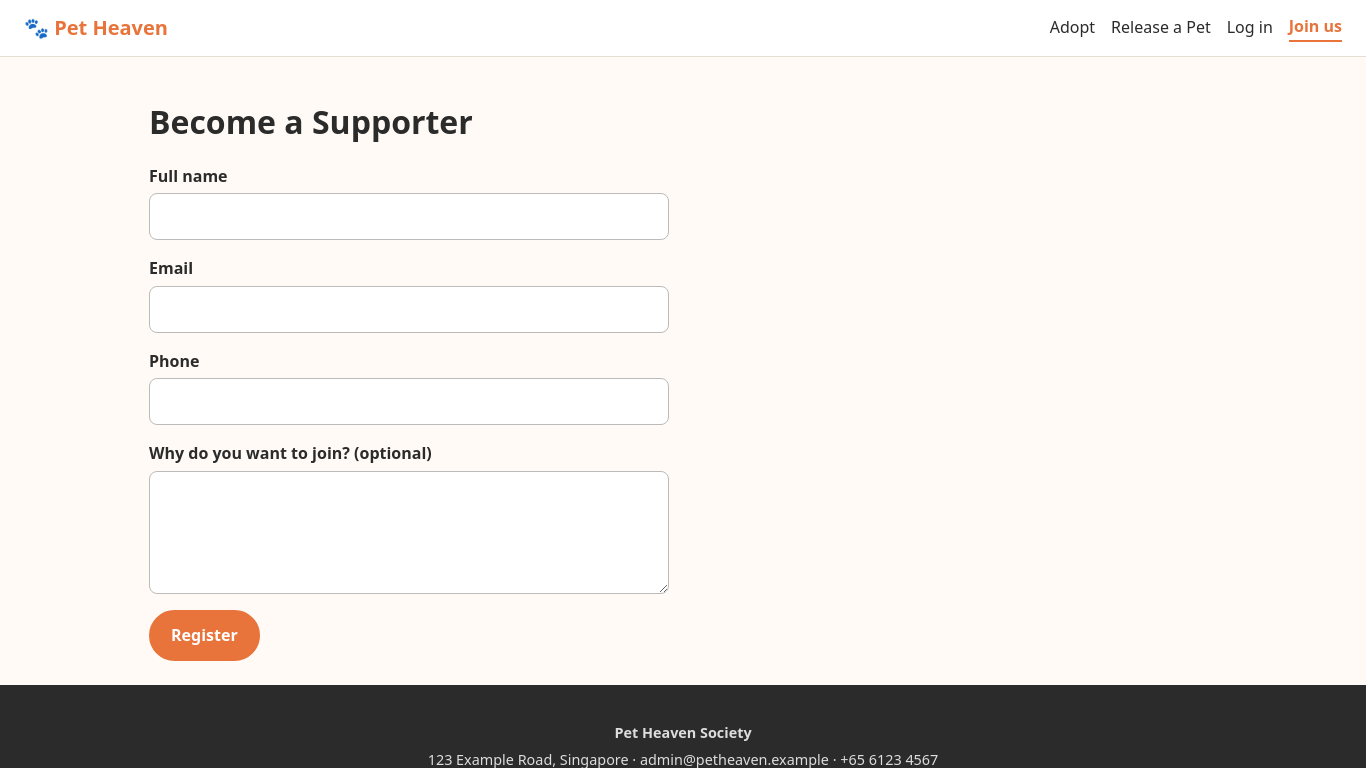
Scenario: Forms › emails the admin and logs the member in after a valid registration
This screenshot has width=1366, height=768.
In the field labelled "Full name": (409, 217) [149,194,669,240], type "Amy Tan"
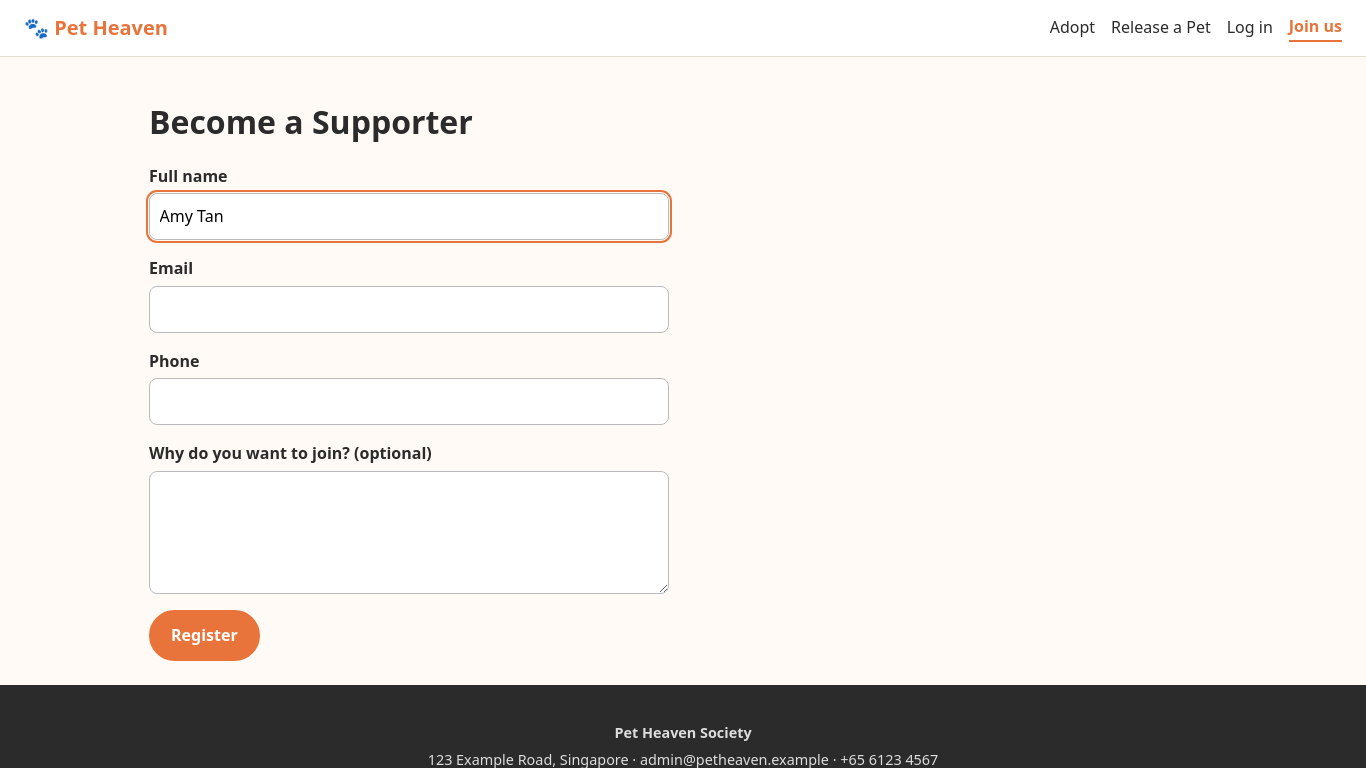
In the field labelled "Email": (409, 309) [149,286,669,333], type "amy@example.com"
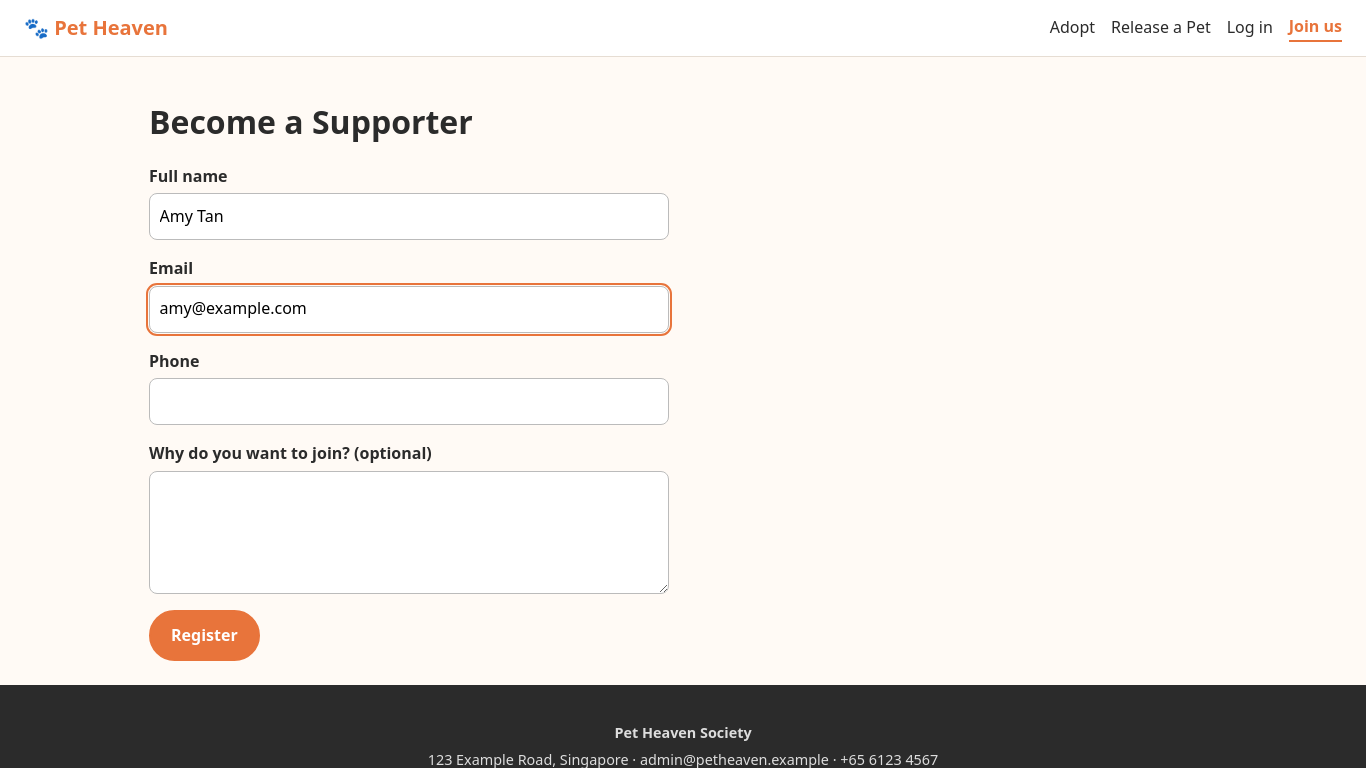
In the field labelled "Phone": (409, 402) [149,378,669,425], type "91234567"
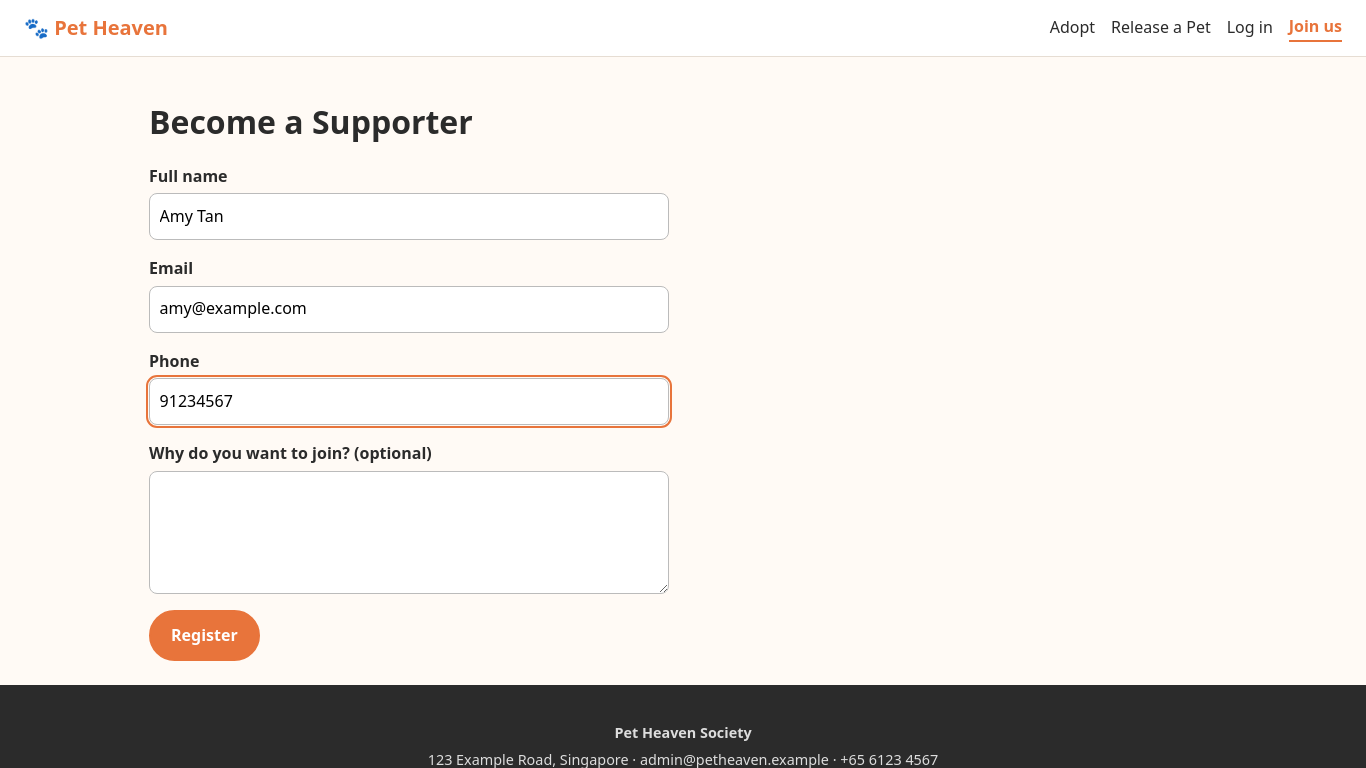
Click the button "Register": (204, 635) [149,610,260,661]
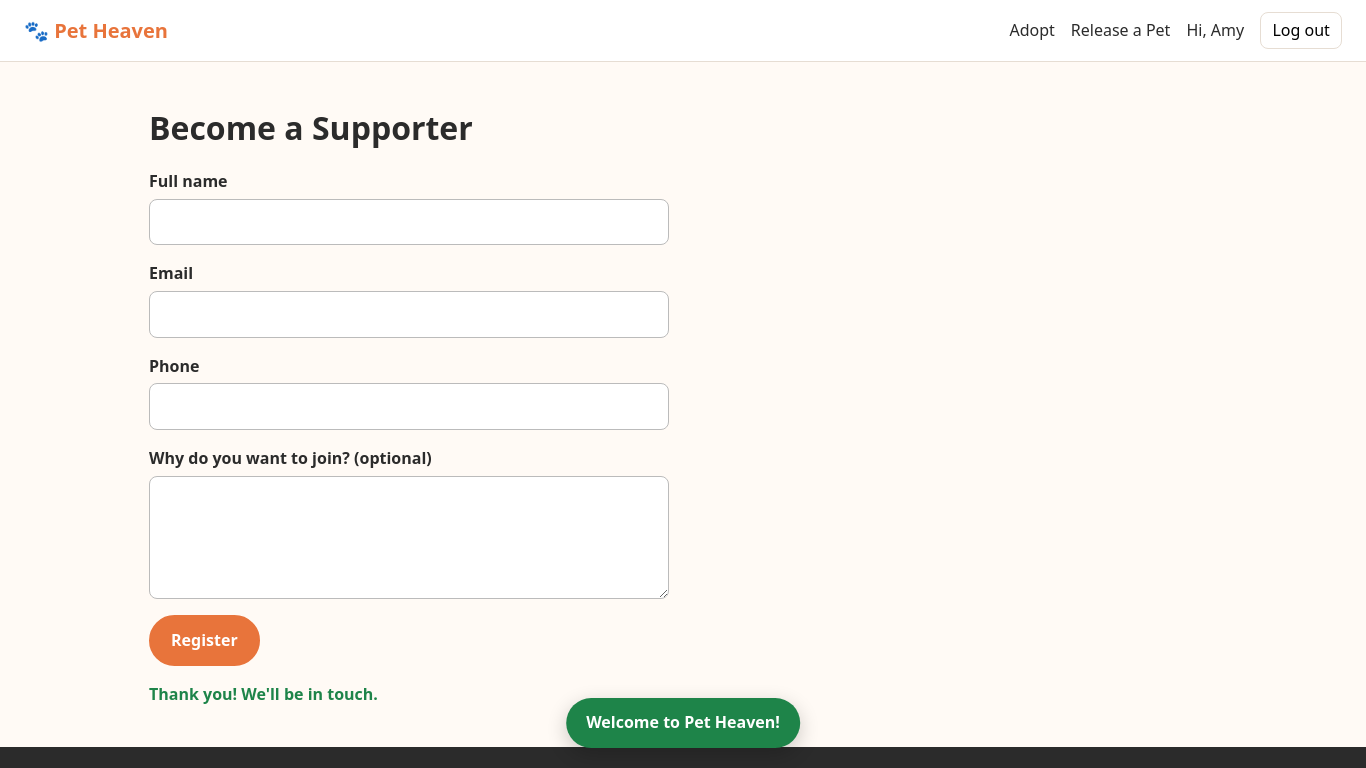
Expected: the text "Hi, Amy" is shown, [1186,18,1244,43]
